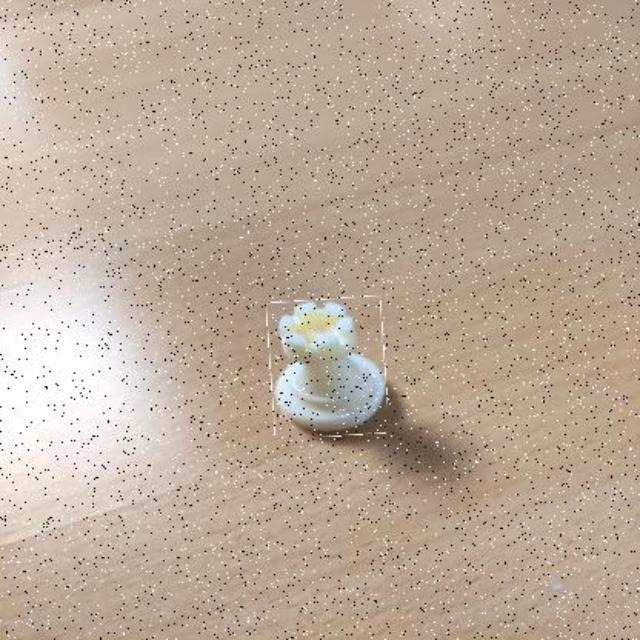white-rook: (269, 297, 387, 437)
